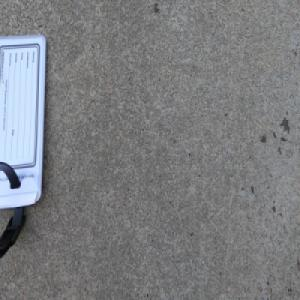LuggageTag: (0, 31, 48, 256)
